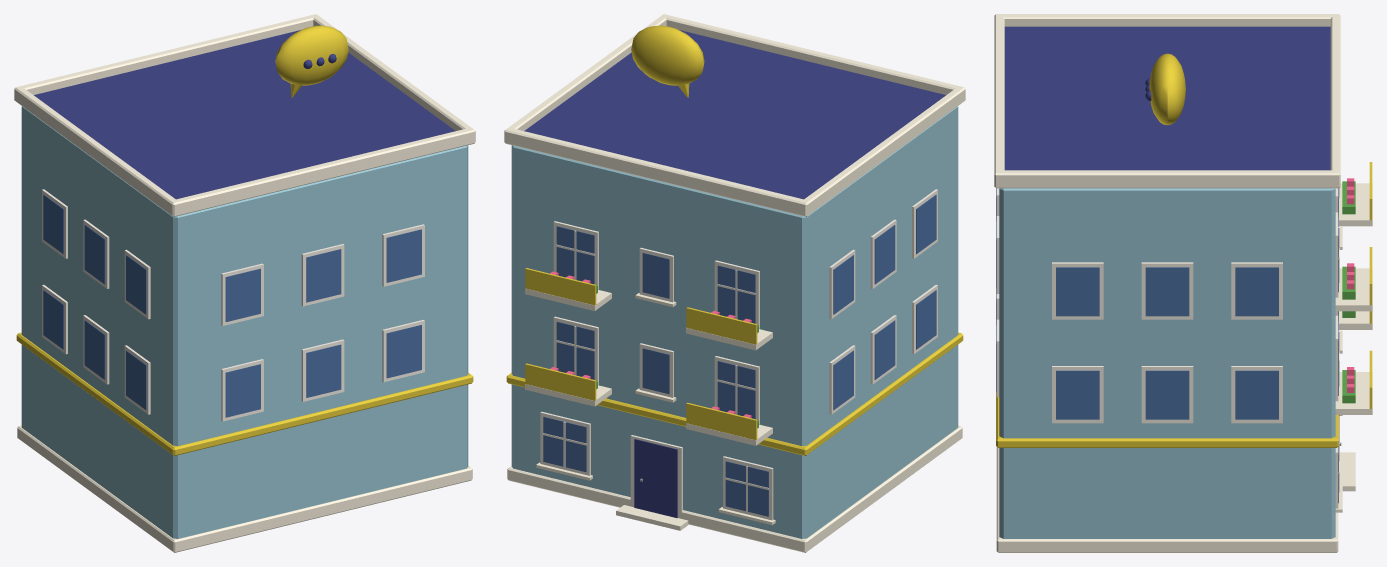
The model's file is bld_d5_d.glb.
The picture shows the model from 3 angles, left to right: view 1: azimuth 30°, elevation 25°; view 2: azimuth 150°, elevation 25°; view 3: azimuth 270°, elevation 25°; orthographic projection. The views are drawn at different scales.
Parts seen in each view (by area): view 1: bld_d5_d; view 2: bld_d5_d; view 3: bld_d5_d.
Boxes of the visible parts, x1,y1,x2,y2 form: bld_d5_d: [14, 14, 475, 552]; bld_d5_d: [504, 14, 965, 552]; bld_d5_d: [994, 14, 1372, 552].
Size of the model in its own units: 11.3 by 14.88 by 11.25.
